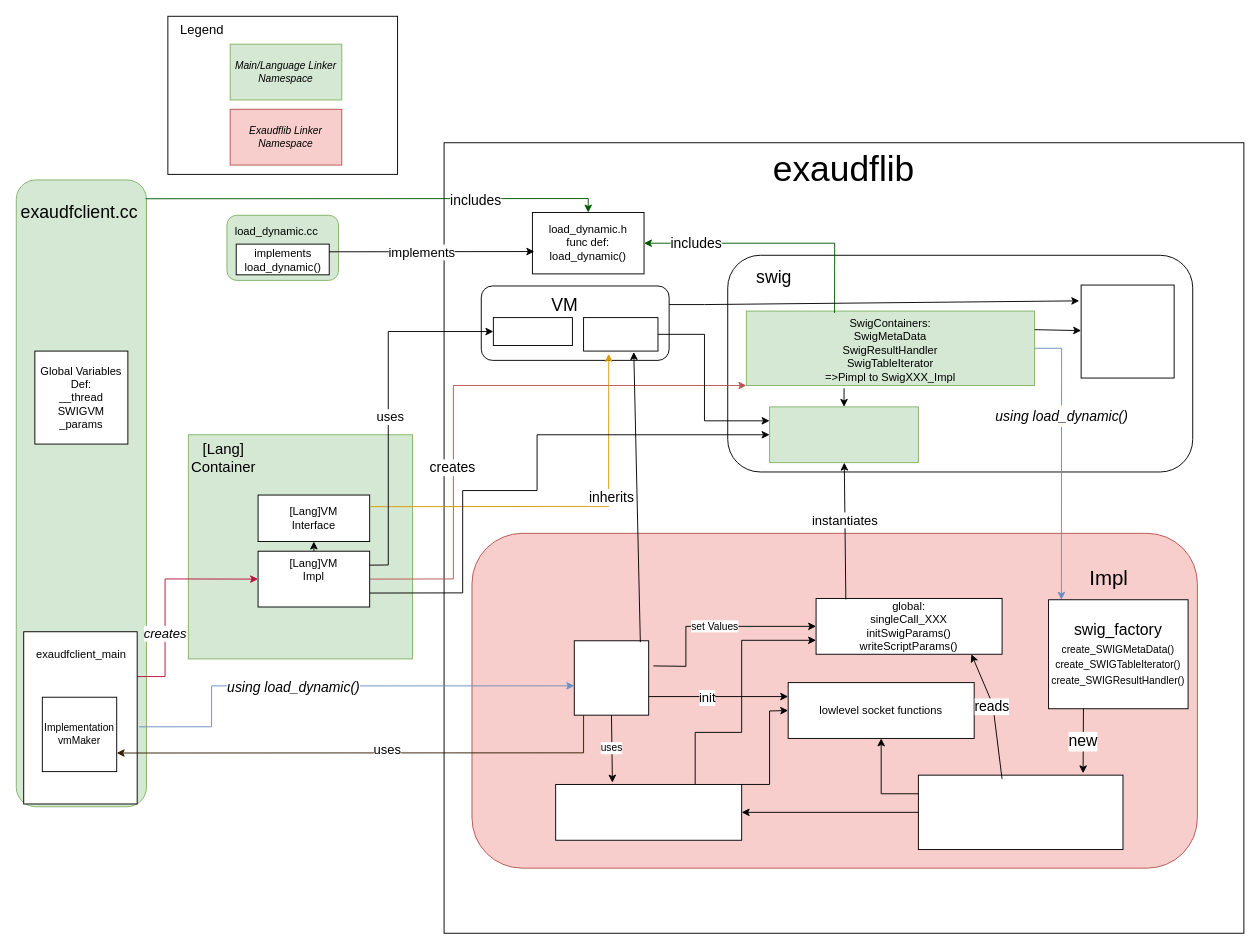
The diagram is 1260 pixels wide and 950 high, and some of its shapes have lost their labels. Here are the shapes that lost their labels. From the top down, the centre of each, then its label:
At point (532, 331): "script options".
At point (620, 334): "SwigVM Interface".
At point (1127, 331): "swig_common.h Metadata Structs Metadata Enums".
At point (843, 434): "script_data_transfer_objects".
At point (611, 677): "exaudfclient _main".
At point (648, 812): "highlevel socket functions".
At point (1020, 812): "SwigContainers: SwigMetaData_Impl SwigResultHandler_Impl SwigTableIterator_Impl".
